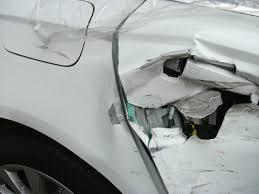doorouter-dent: (144, 3, 258, 193)
